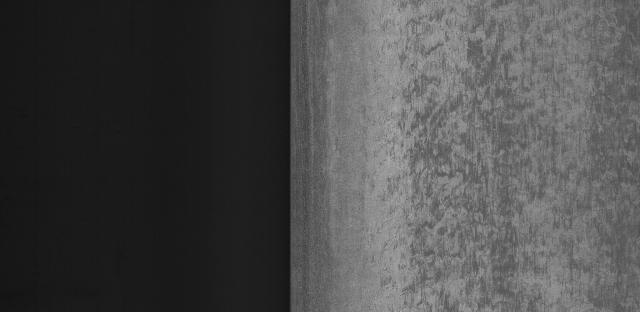silk_spot: (377, 15, 640, 294)
